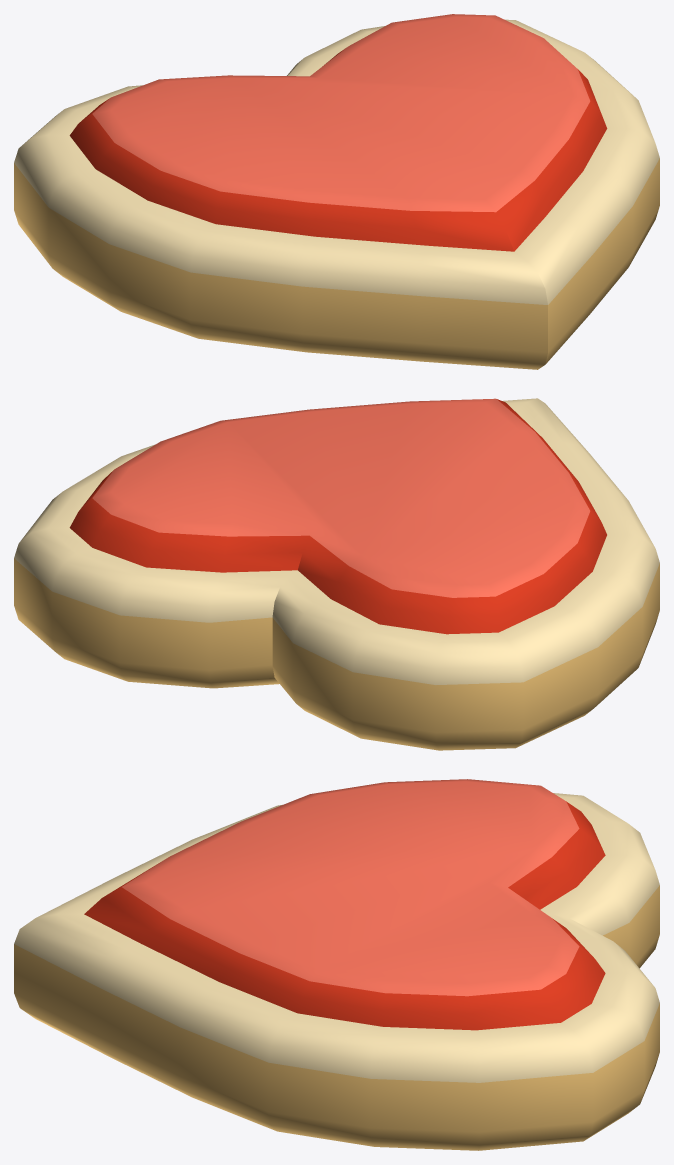
Rendered from HeartCookie.fbx.
3 views of the same model, one above another, from view 1: azimuth 30°, elevation 25°; view 2: azimuth 150°, elevation 25°; view 3: azimuth 270°, elevation 25° (orthographic). The views are drawn at different scales.
Visible parts, largest first — view 1: Cube.001; view 2: Cube.001; view 3: Cube.001.
Boxes of the visible parts, x1=… form: Cube.001: x1=14, y1=14, x2=659, y2=369; Cube.001: x1=14, y1=398, x2=659, y2=750; Cube.001: x1=14, y1=779, x2=659, y2=1150.
Size of the model in its own units: 200 by 47.1 by 196.
